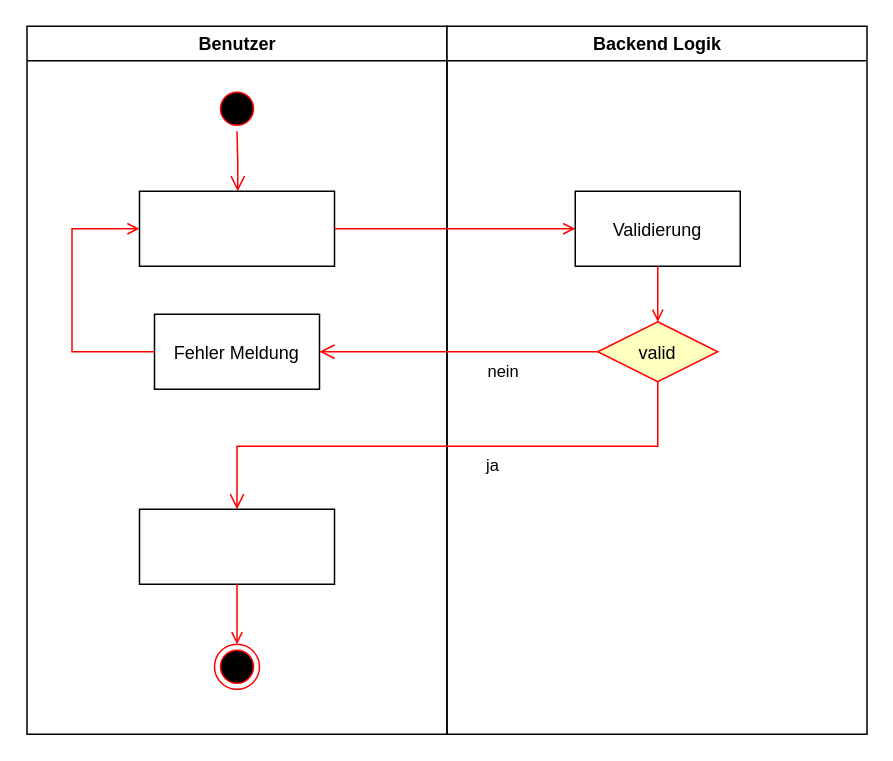
This 893x761 diagram has some shape labels left out. The shapes that lost their labels are listed below. From the top down, each one's box as (x1, y1, x2, y2) in pixels, then its label:
(138, 190, 334, 266): Anmelde Credentials
(138, 508, 334, 584): Angemeldet Meldung
